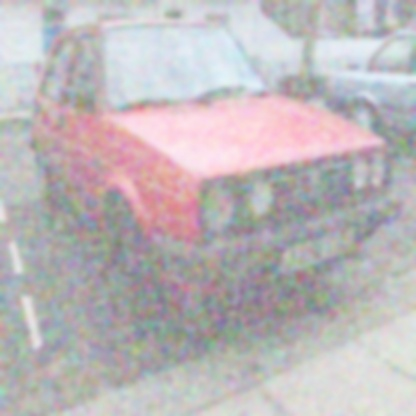Vehicle: (31, 18, 403, 331)
